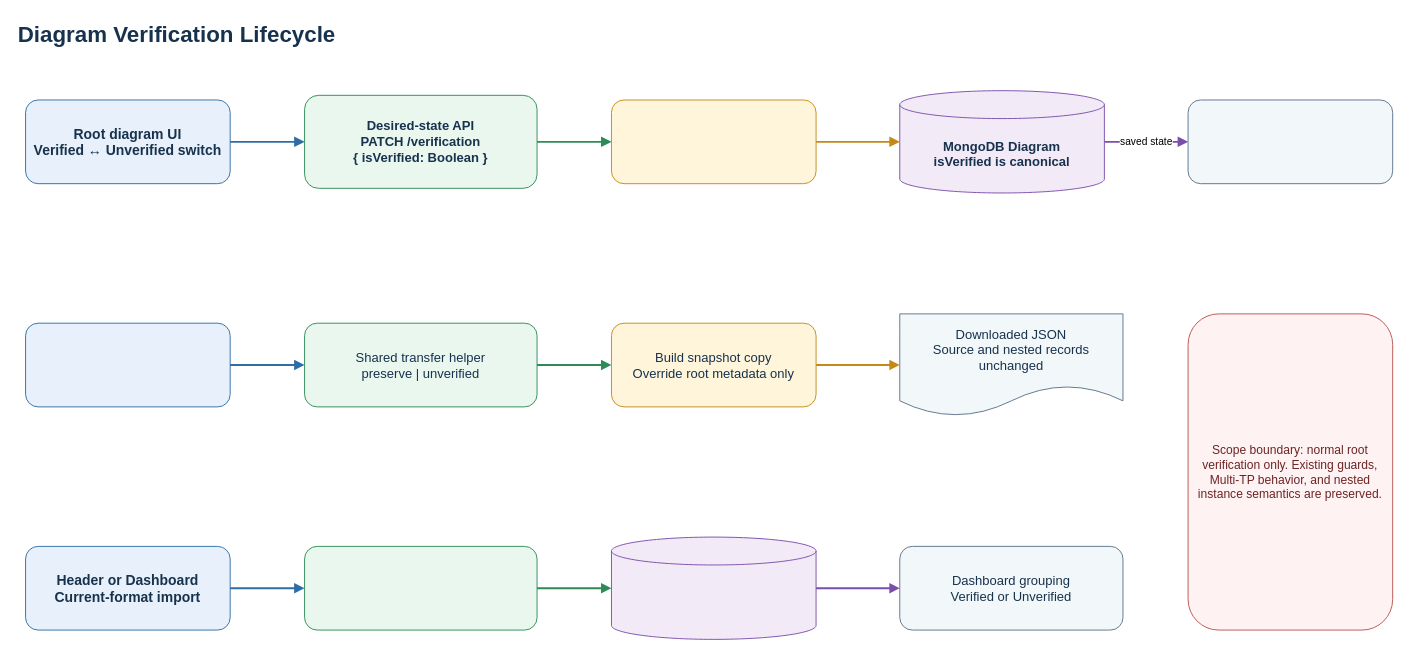
Some shapes in this 1409 by 656 pixel diagram are drawn without their labels. The shapes that lost their labels are listed below. From the top down, each one's box as (x1, y1, x2, y2) in pixels, then its label:
(611, 99, 816, 184): Owner check first Idempotent comparison
(1187, 99, 1393, 184): Canonical response Redux updates only on success
(25, 322, 230, 407): Header or Dashboard Full Data export
(304, 545, 537, 630): One shared POST /import No follow-up /verify
(611, 536, 816, 639): Created root diagram Exact metadata.isVerified
